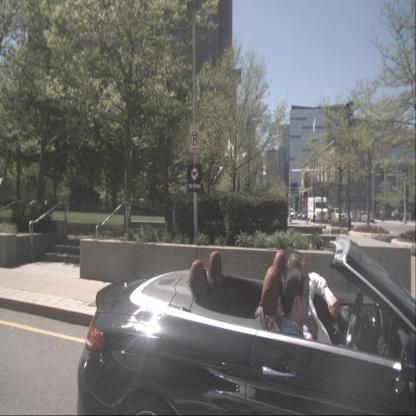vehicle-car: (75, 235, 416, 415), (331, 207, 347, 224), (391, 207, 408, 220), (361, 212, 375, 222), (353, 212, 364, 221), (324, 210, 332, 220), (348, 211, 356, 221), (296, 208, 302, 220), (301, 210, 308, 220), (288, 208, 294, 218)
vehicle-truck: (308, 196, 329, 223)
